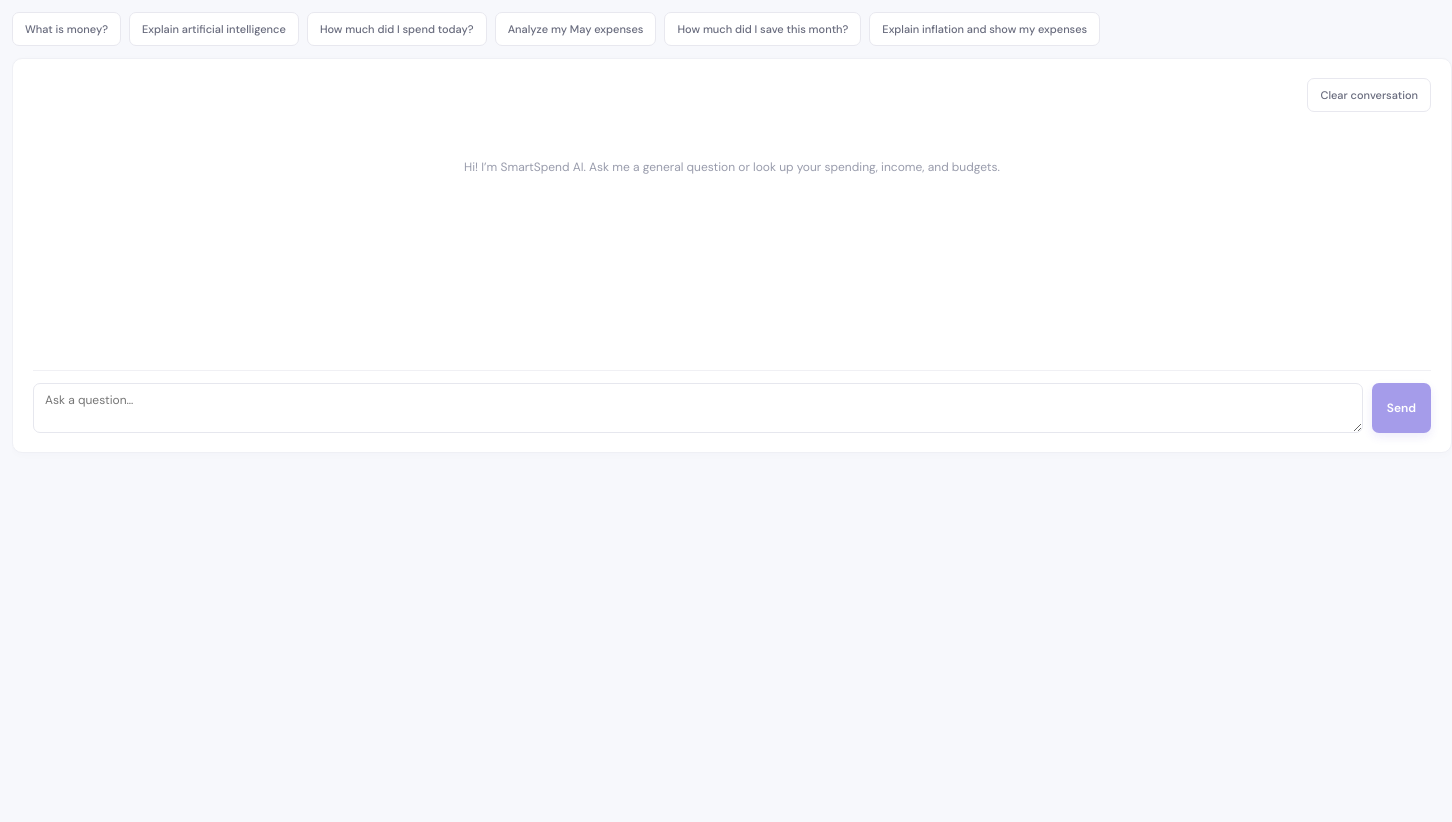
Test: Financial assistant chat › sends context, shows a typing indicator and renders structured answers
Later steps or results of the test are not shown.
Click the button "Analyze my May expenses" at (576, 29), box [495, 12, 656, 46]
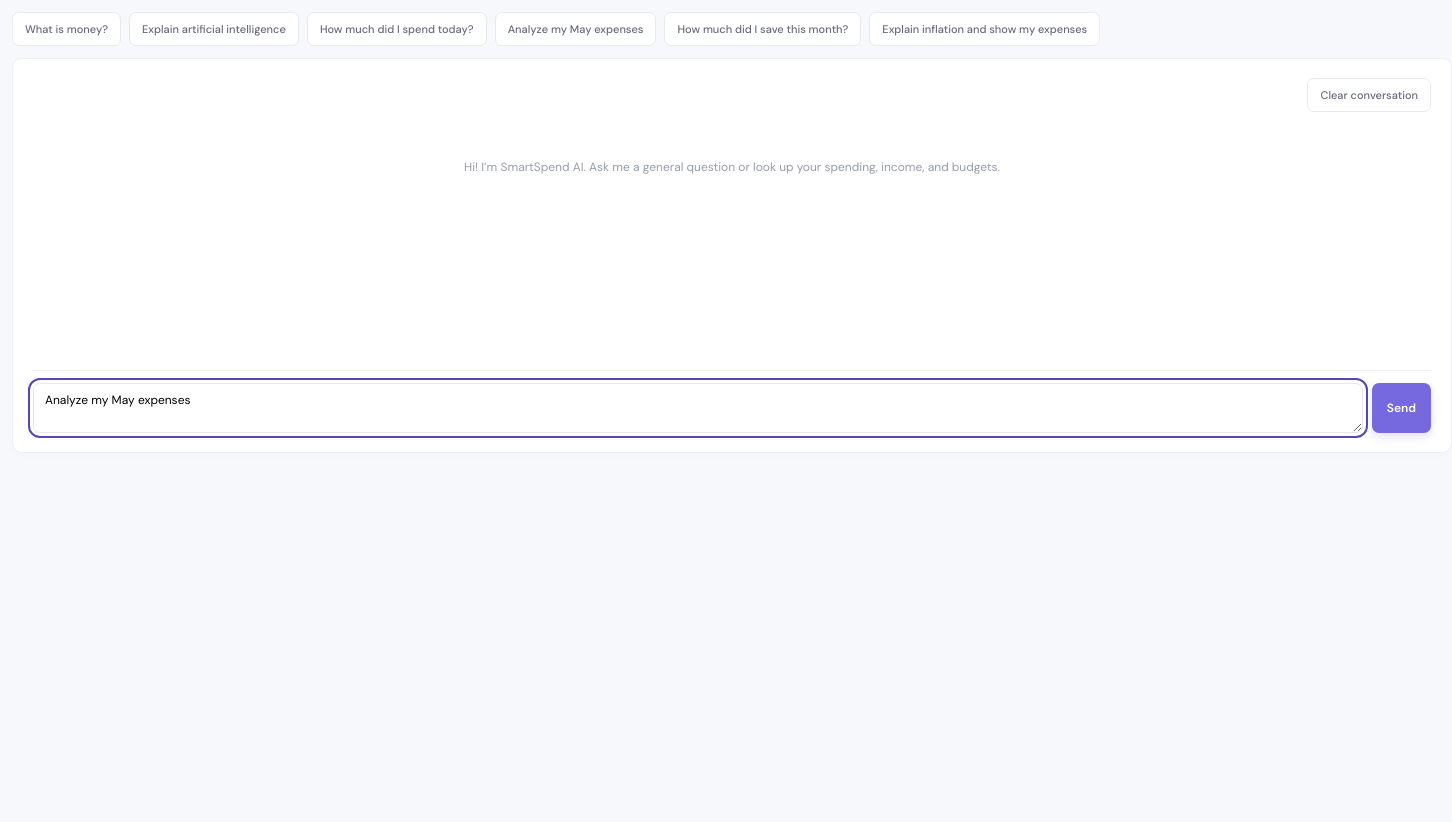
Expected: the text box holds "Analyze my May expenses"
Replace the text in the text box named "Message" with "What were my expenses in May?" at (698, 408), box [33, 383, 1363, 433]
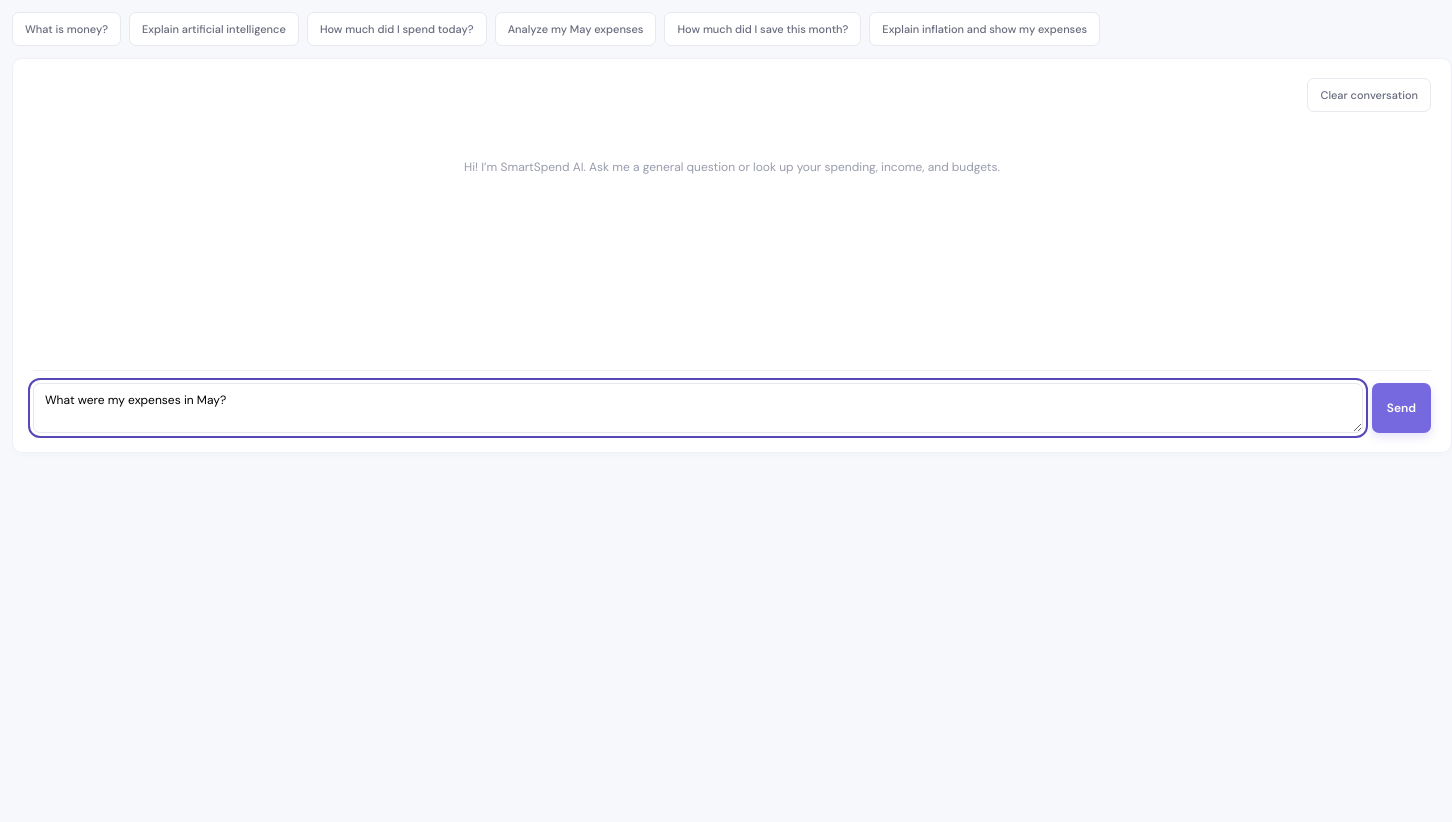
Submit the form named "Message", box [33, 370, 1431, 433]
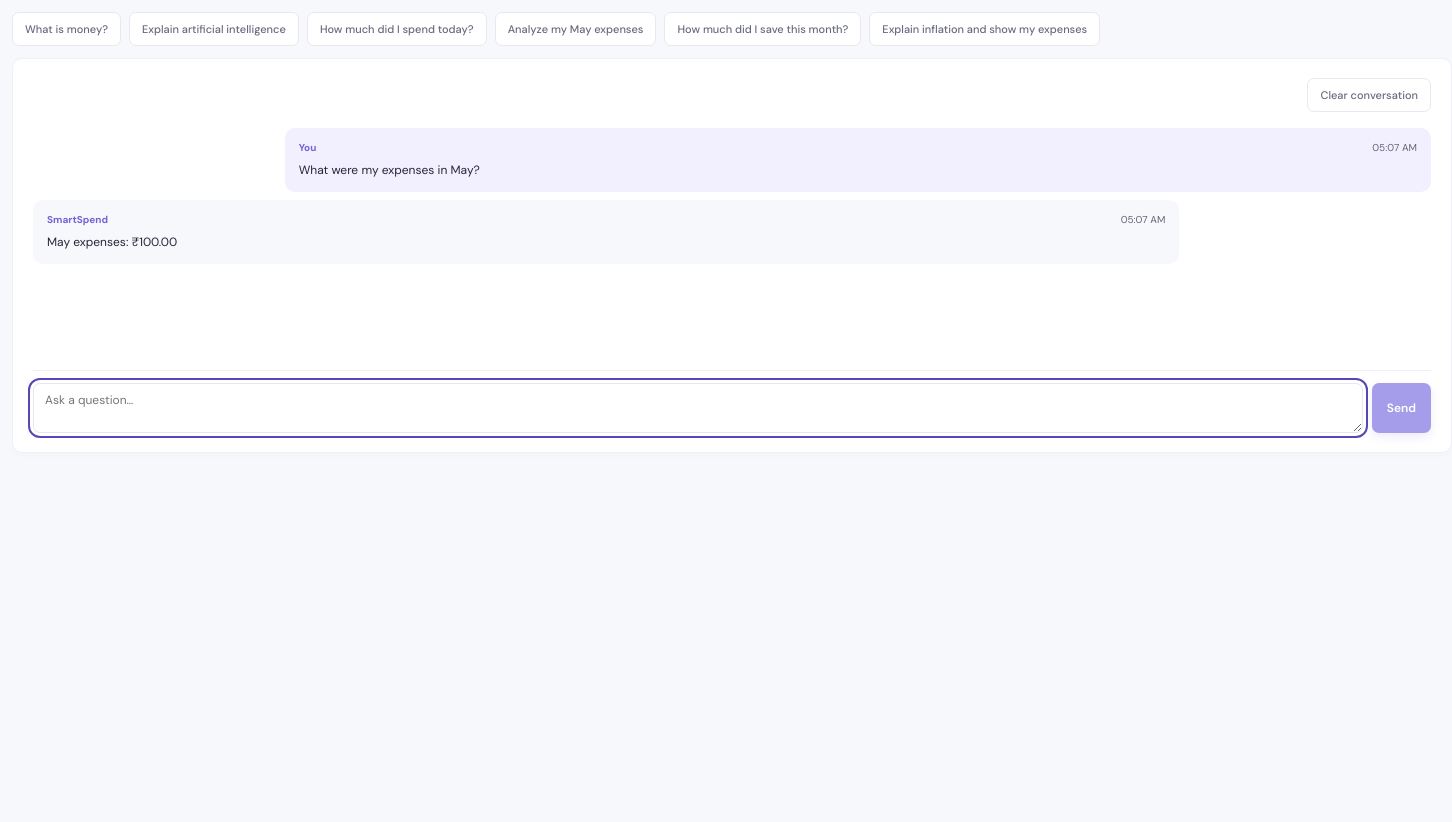
Expected: the text "May expenses: ₹100.00" is shown, [47, 234, 177, 250]
Type "What about April?" into the text box named "Message" at (698, 408), box [33, 383, 1363, 433]
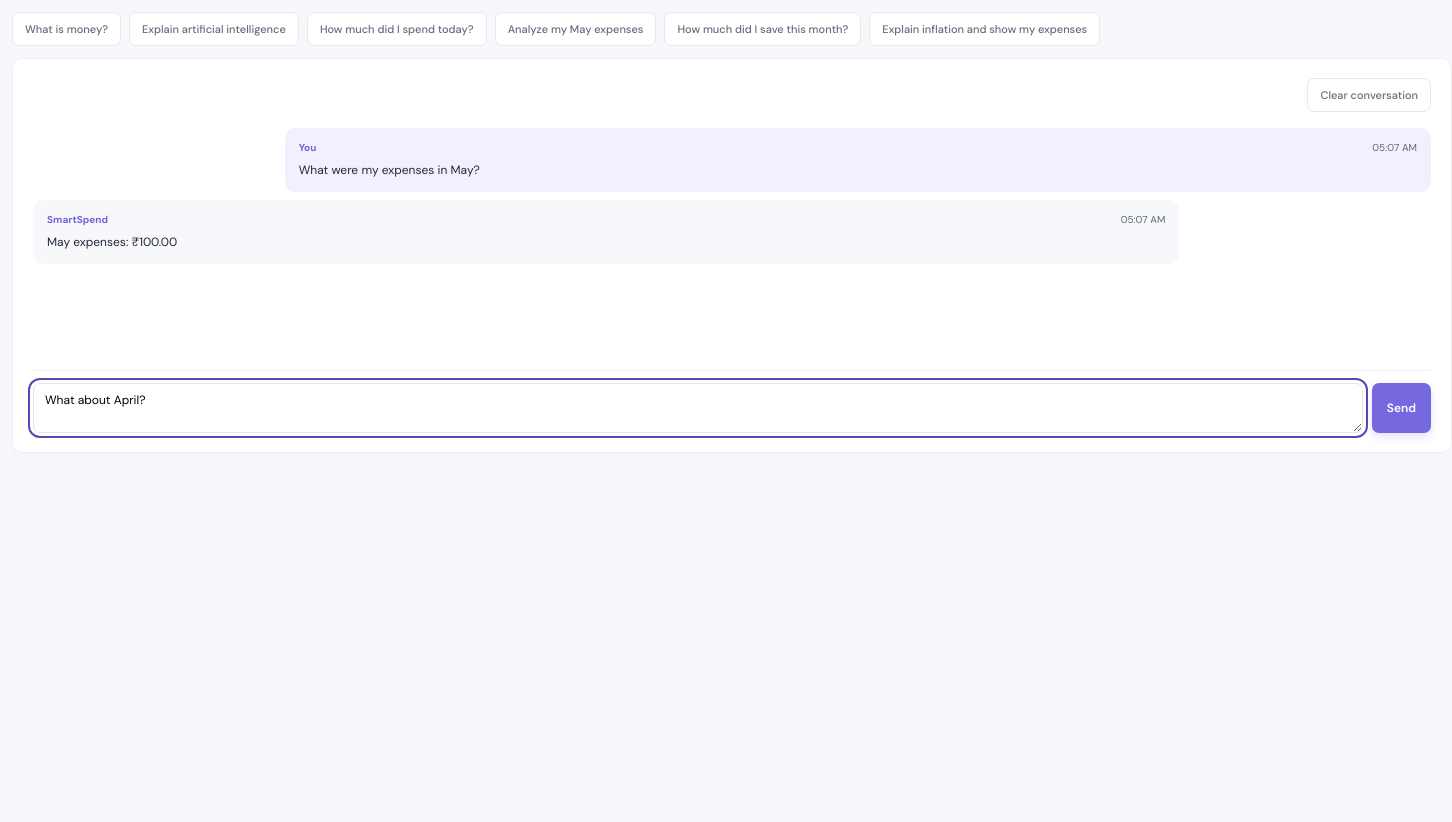
Submit the form named "Message", box [33, 370, 1431, 433]
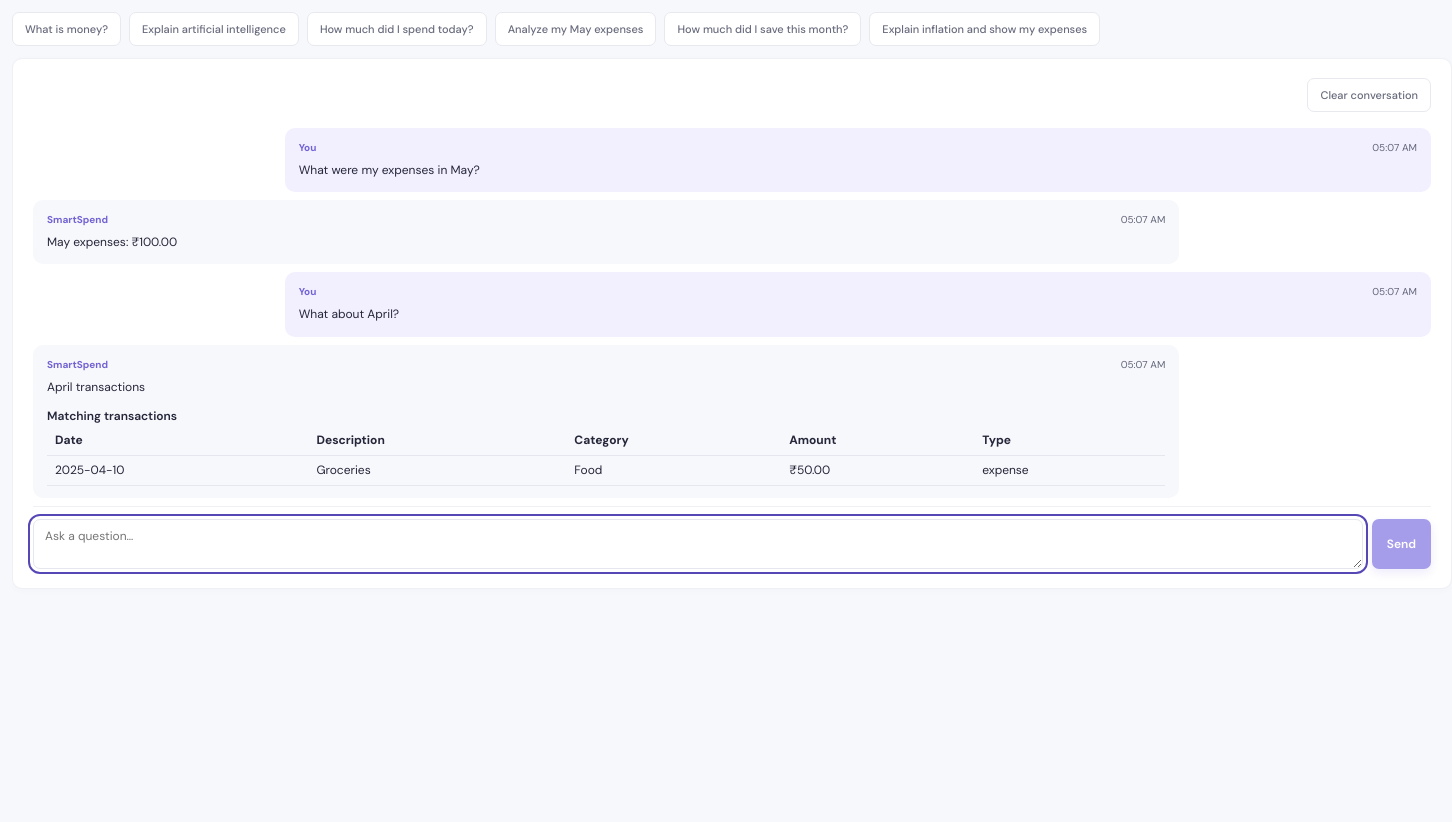
Expected: the table is shown, [47, 407, 1165, 486]
Expected: the text "₹50.00" is shown, [781, 456, 974, 486]
Expected: the text "Groceries" is shown, [308, 456, 566, 486]
